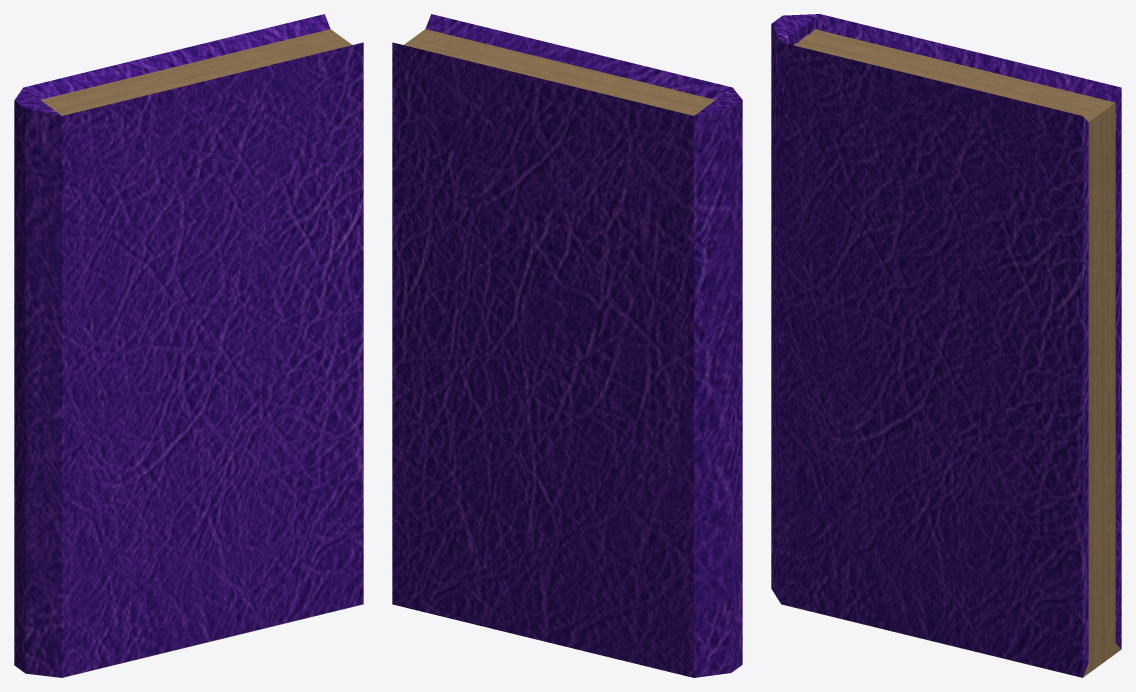
The model's file is Book color 7.fbx.
3 views of the same model, side by side, from view 1: azimuth 30°, elevation 25°; view 2: azimuth 150°, elevation 25°; view 3: azimuth 330°, elevation 25° (orthographic).
Visible parts, largest first — view 1: Cube; view 2: Cube; view 3: Cube.
Boxes of the visible parts, bbox=[...] form: Cube: bbox=[14, 14, 363, 677]; Cube: bbox=[392, 14, 742, 677]; Cube: bbox=[771, 14, 1121, 677].
Size of the model in its own units: 121 by 201 by 25.05.
Materials: 1 (1 with a texture image).
